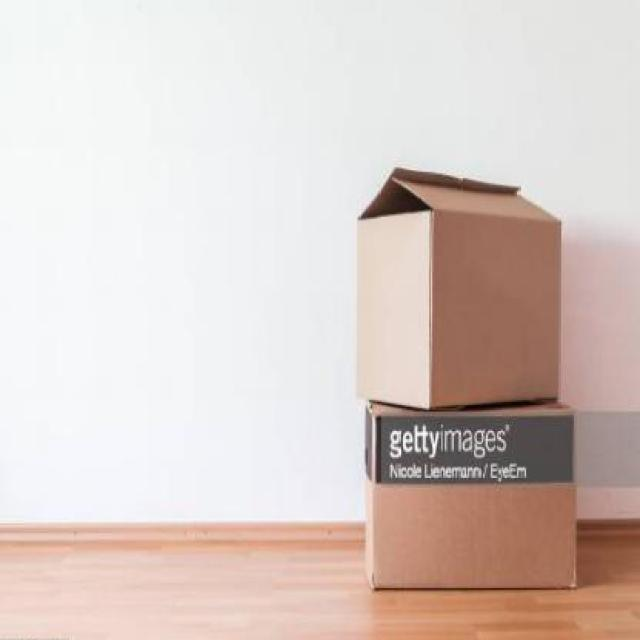box: (343, 139, 577, 431), (361, 386, 596, 617)
